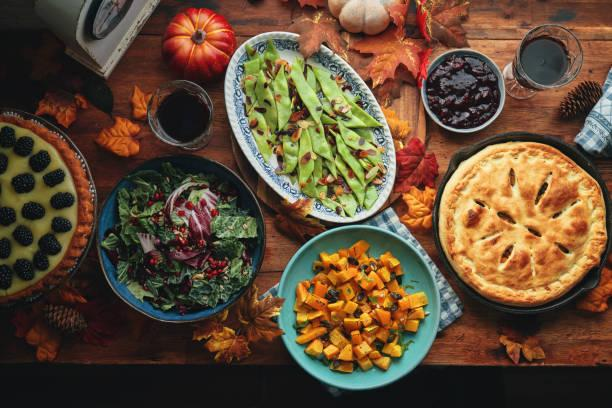Braised Crucian Carp: (224, 30, 393, 226), (432, 131, 609, 314), (94, 154, 260, 323), (275, 224, 440, 391)
